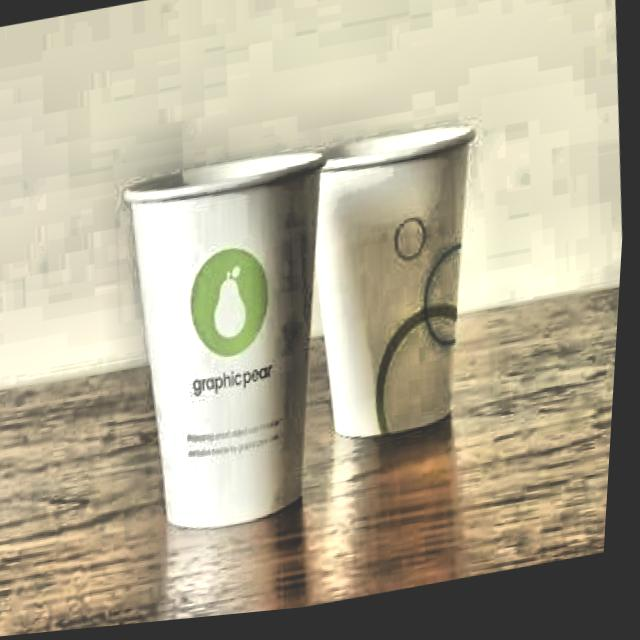Cup: (105, 136, 362, 564), (283, 108, 507, 471)
